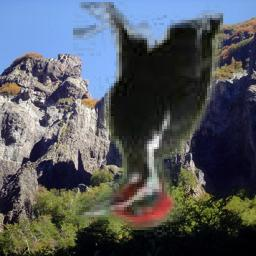Woodpecker: (74, 3, 225, 240)
